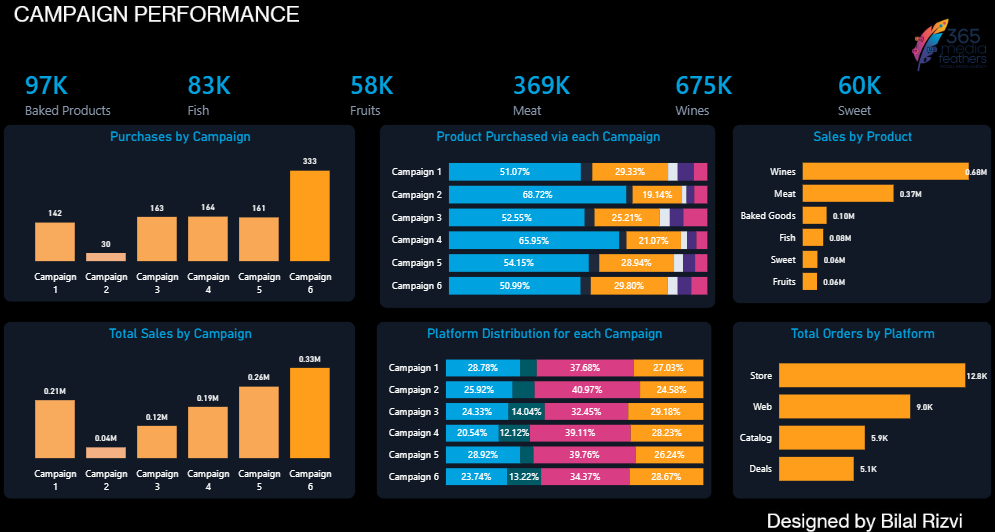

This screenshot's page, from the dashboard's own definition file:
{"tool":"powerbi","page":{"name":"Campaign Performance","canvas":[1280,720],"ordinal":0},"visuals":[{"type":"clusteredColumnChart","title":"Purchases by Campaign","fields":{"Y":["Sum(Campaigns.Response)"],"Category":["Campaigns.Campign"]},"box":[11.7,167,449.6,239.5],"z":0},{"type":"clusteredBarChart","title":"Sales by Product","fields":{"Category":["Total Sales.Product"],"Y":["Sum(Total Sales.Total Sales)"]},"box":[940.4,167,330.6,241],"z":1000},{"type":"clusteredColumnChart","title":"Total Sales by Campaign","fields":{"Category":["Campaigns.Campign"],"Y":["Sum(Total Sales.Total Sales)"]},"box":[11.7,430,449.6,239.5],"z":2000},{"type":"hundredPercentStackedBarChart","title":"Product Purchased via each Campaign","fields":{"Category":["Campaigns.Campaign"],"Y":["Sum(Total Sales.Total Sales)"],"Series":["Total Sales.Product"]},"box":[490.7,167,429.1,248.3],"z":3000},{"type":"hundredPercentStackedBarChart","title":"Platform Distribution for each Campaign","fields":{"Category":["Campaigns.Campaign"],"Series":["Source(Marketing).Platform"],"Y":["Sum(Source(Marketing).Value)"]},"box":[492.2,430,427.6,240],"z":4000},{"type":"clusteredBarChart","title":"Total Orders by Platform","fields":{"Y":["Sum(Source(Marketing).Value)"],"Category":["Source(Marketing).Platform"]},"box":[940.4,430,330.6,239.5],"z":5000},{"type":"cardVisual","fields":{"Data":["Sum(CustomerData.Amount_BakedProducts)","Sum(CustomerData.Amount_FishProducts)","Sum(CustomerData.Amount_Fruits)","Sum(CustomerData.Amount_MeatProducts)","Sum(CustomerData.Amount_Wines)","Sum(CustomerData.Amount_SweetProducts)"]},"box":[10.3,63.2,1269.6,116.1],"z":6000}]}

Visuals, with their boxes on the page's 1280x720 design canvas (x1, y1, x2, y2). These are canvas units, not pixel positions in the 995x532 screenshot, which may show the page scaled, cropped or inside an application window:
"Purchases by Campaign" clusteredColumnChart: [left=12, top=167, right=461, bottom=406]
"Sales by Product" clusteredBarChart: [left=940, top=167, right=1271, bottom=408]
"Total Sales by Campaign" clusteredColumnChart: [left=12, top=430, right=461, bottom=670]
"Product Purchased via each Campaign" hundredPercentStackedBarChart: [left=491, top=167, right=920, bottom=415]
"Platform Distribution for each Campaign" hundredPercentStackedBarChart: [left=492, top=430, right=920, bottom=670]
"Total Orders by Platform" clusteredBarChart: [left=940, top=430, right=1271, bottom=670]
cardVisual - Sum(CustomerData.Amount_BakedProducts) x Sum(CustomerData.Amount_FishProducts): [left=10, top=63, right=1280, bottom=179]
